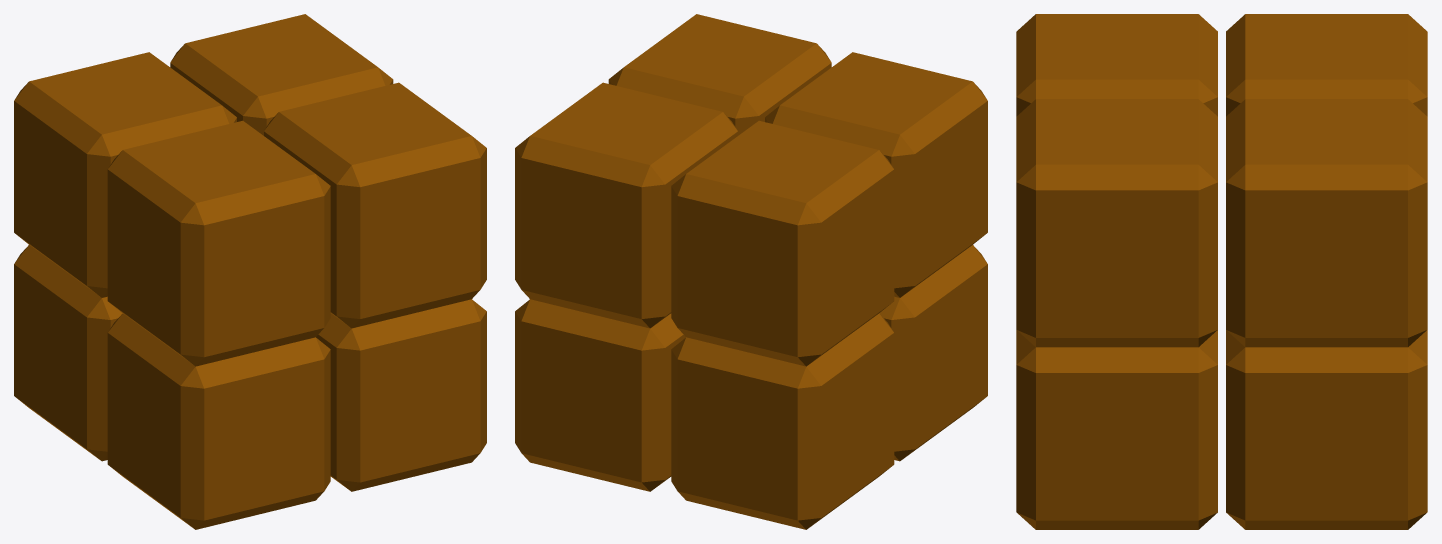
Rendered from overhead_stone.fbx.
3 renders of one model, left to right at view 1: azimuth 30°, elevation 25°; view 2: azimuth 150°, elevation 25°; view 3: azimuth 270°, elevation 25°, orthographic. The views are drawn at different scales.
Visible parts, largest first — view 1: polySurface3; view 2: polySurface3; view 3: polySurface3.
Part boxes in pixels (x1,y1,x2,y2): polySurface3: [14, 14, 486, 529]; polySurface3: [515, 14, 987, 529]; polySurface3: [1016, 14, 1427, 529].
Size of the model in its own units: 3.92 by 4 by 4.08.
